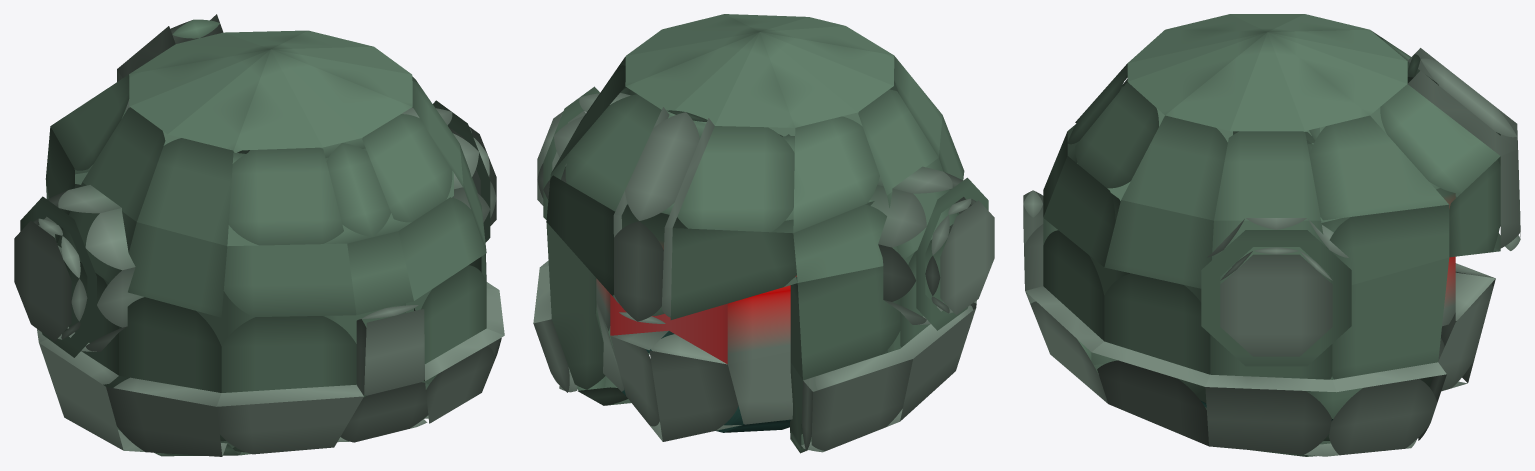
The model's file is BusterBomber Head.obj.
3 views of the same model, side by side, from view 1: azimuth 30°, elevation 25°; view 2: azimuth 150°, elevation 25°; view 3: azimuth 270°, elevation 25° (orthographic). The views are drawn at different scales.
Visible parts, largest first — view 1: cylinder; view 2: cylinder; view 3: cylinder.
Boxes of the visible parts, left/top/right/bottom form: cylinder: left=14, top=14, right=504, bottom=456; cylinder: left=533, top=14, right=994, bottom=453; cylinder: left=1023, top=14, right=1520, bottom=456.
Size of the model in its own units: 0.4812 by 0.425 by 0.4973.
1 material, 1 textured.
